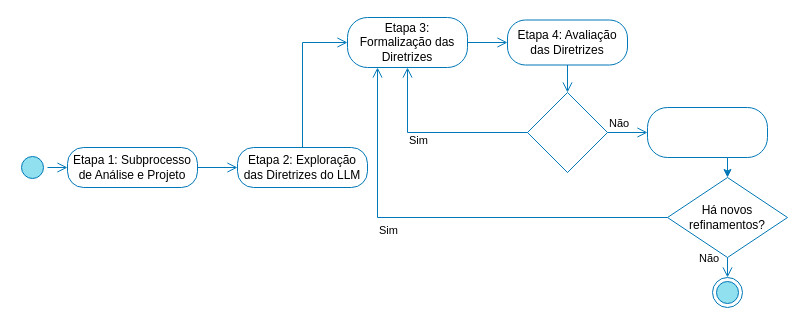
Some shapes in this 805 by 325 pixel diagram are drawn without their labels. Here are the shapes that lost their labels. From the top down, the centre of each, then its label:
point (567, 132): Há novas diretrizes?
point (707, 132): Etapa 5: Avaliação de Diagramas
